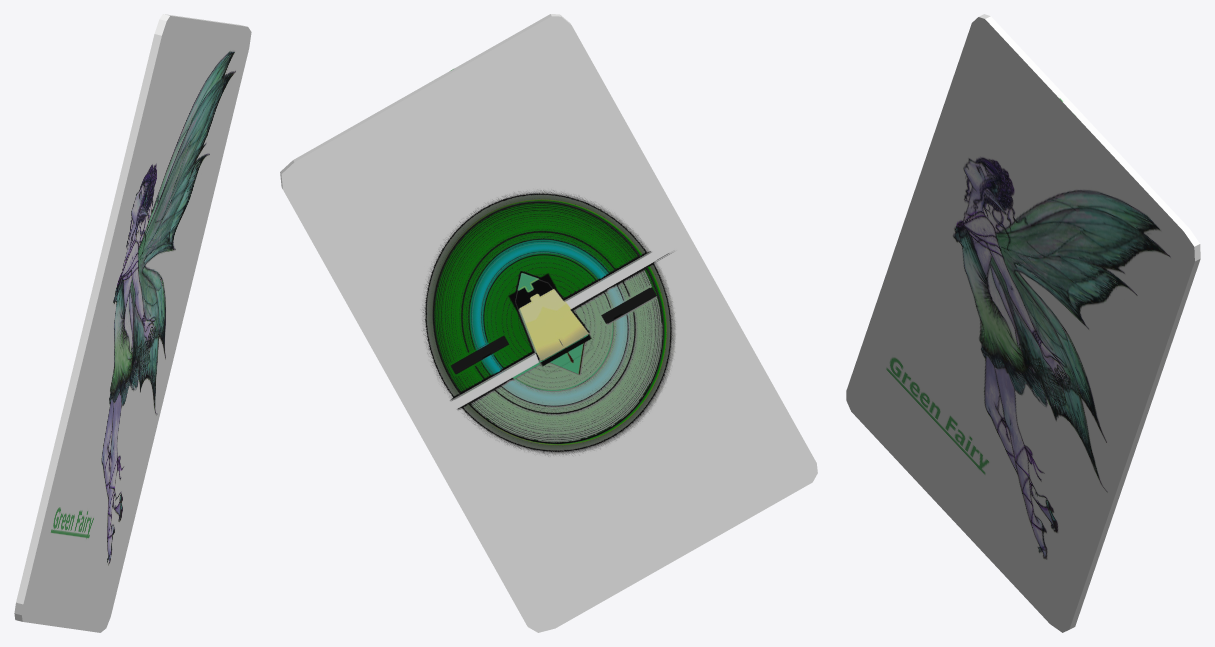
File: card_06_aaaa_-_00.glb
3 views of the same model, side by side, from view 1: azimuth 30°, elevation 25°; view 2: azimuth 150°, elevation 25°; view 3: azimuth 270°, elevation 25° (orthographic). The views are drawn at different scales.
Parts seen in each view (by area): view 1: Object_2; view 2: Object_2; view 3: Object_2.
Part boxes in pixels (box(x1,y1,x2,y2)): Object_2: box(14, 14, 251, 632); Object_2: box(280, 14, 817, 632); Object_2: box(846, 14, 1200, 632).
Bounding box in the file's own units: 1.31 × 1.94 × 0.9972.
Materials: 1 (1 with a texture image).
